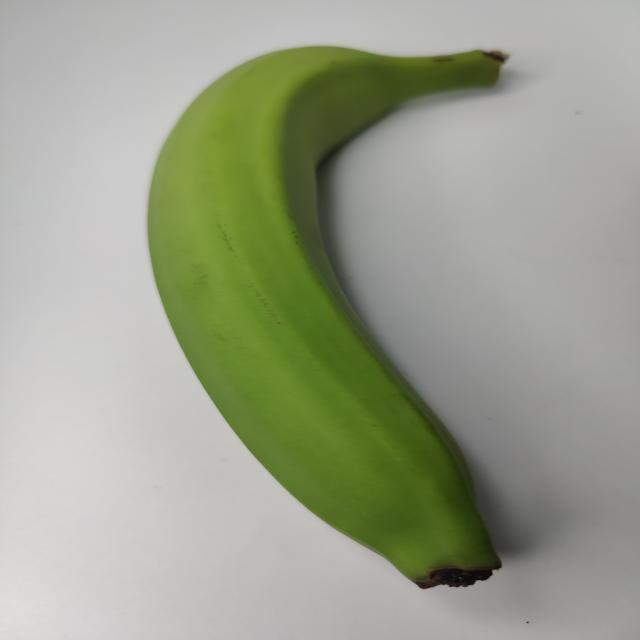raw: (88, 16, 586, 610)
